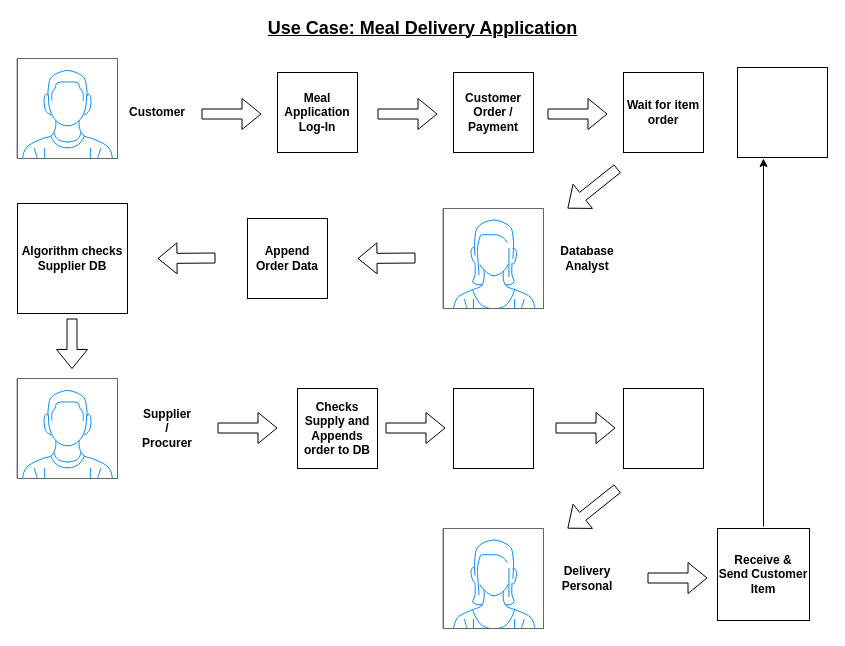
The diagram is 845 pixels wide and 646 high, and some of its shapes have lost their labels. The centre of each missing label's shape, as x and y in pixels:
"Customer Receives Order" goes at (782,112).
"Procures Order" goes at (493,428).
"Send to Delivery" goes at (663,428).
